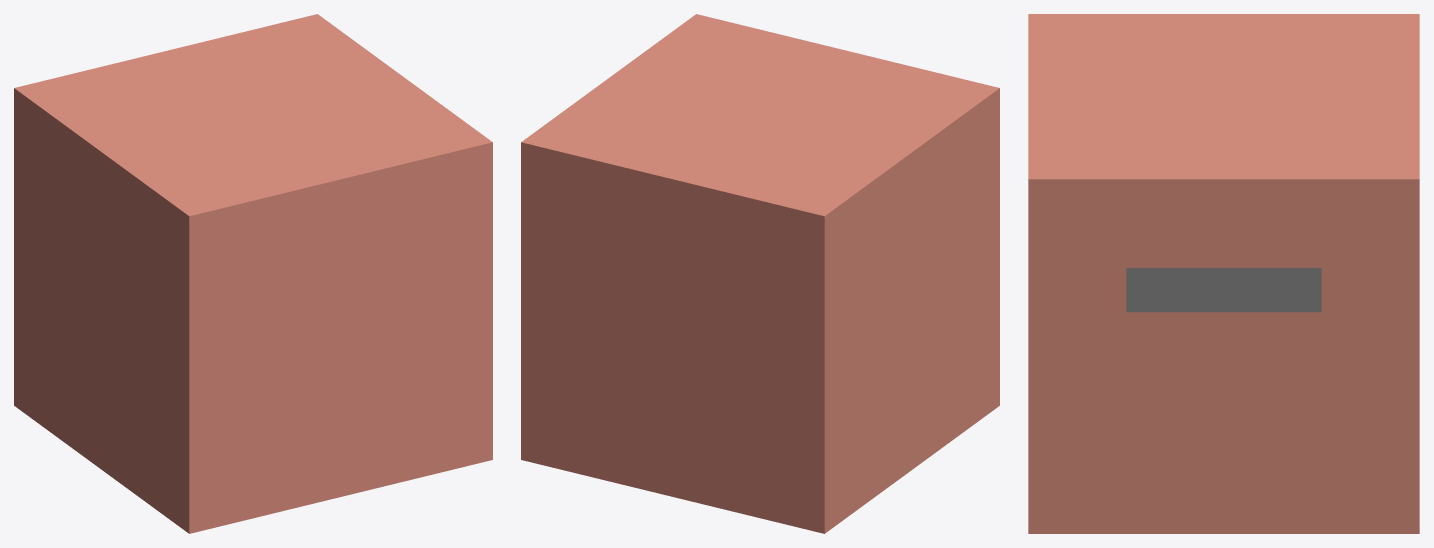
Rendered from substance.glb.
The picture shows the model from 3 angles, left to right: view 1: azimuth 30°, elevation 25°; view 2: azimuth 150°, elevation 25°; view 3: azimuth 270°, elevation 25°; orthographic projection. The views are drawn at different scales.
Parts seen in each view (by area): view 1: Cube; view 2: Cube; view 3: Cube.
Boxes of the visible parts, x1=… form: Cube: x1=14, y1=14, x2=492, y2=533; Cube: x1=521, y1=14, x2=999, y2=533; Cube: x1=1028, y1=14, x2=1419, y2=533.
Size of the model in its own units: 0.1768 by 0.1768 by 0.1768.
